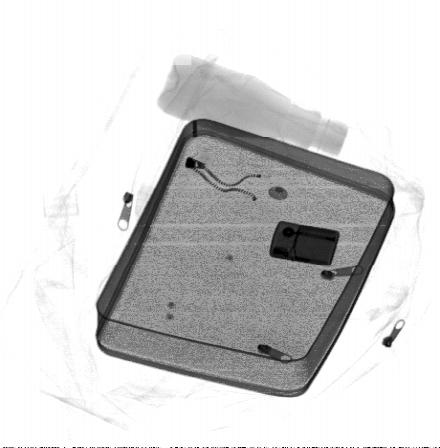Lighter: (268, 220, 340, 266)
